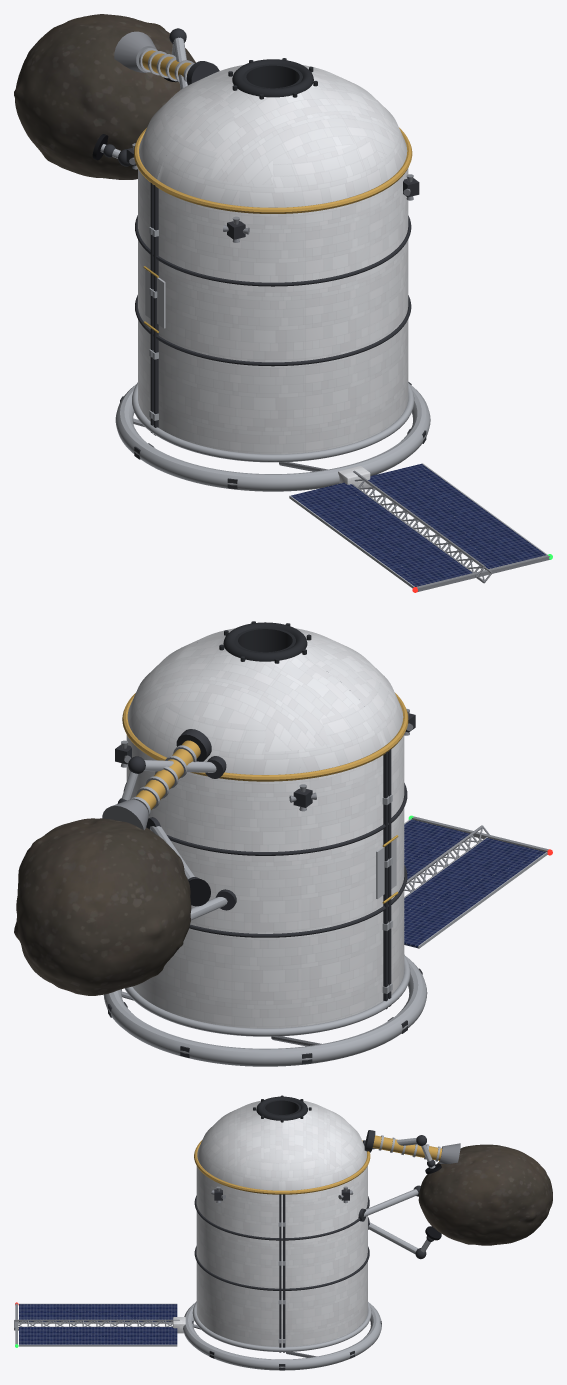
File: refinery.glb
The picture shows the model from 3 angles, top to bottom: view 1: azimuth 30°, elevation 25°; view 2: azimuth 150°, elevation 25°; view 3: azimuth 270°, elevation 25°; orthographic projection. The views are drawn at different scales.
Parts seen in each view (by area): view 1: half1, half0, frame; view 2: half0, frame, half1; view 3: half0, half1, frame.
Part boxes in pixels (<box>): half1: <box>150,67,419,462</box>; half0: <box>14,14,364,433</box>; frame: <box>115,382,552,592</box>; half0: <box>14,630,391,1036</box>; frame: <box>103,815,552,1066</box>; half1: <box>171,621,415,1006</box>; half0: <box>282,1095,552,1352</box>; half1: <box>192,1095,282,1352</box>; frame: <box>14,1302,381,1370</box>.
Bounding box in the file's own units: 0.9319 × 1.26 × 2.52.
27 materials, 5 textured.
